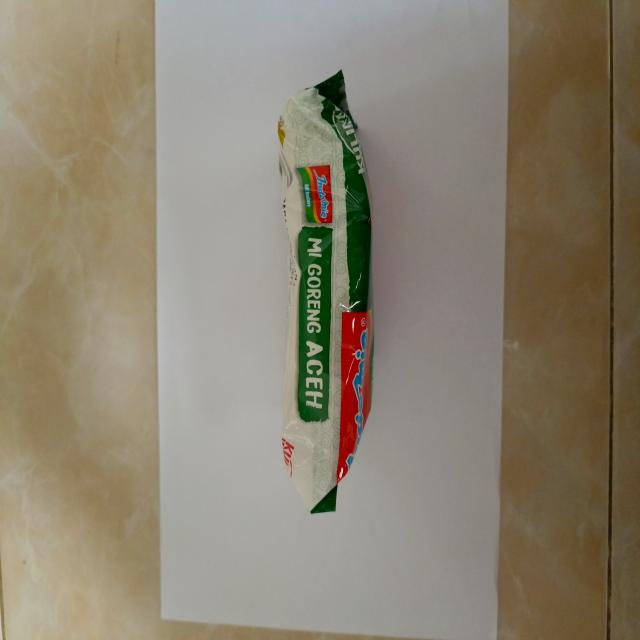gery-salut-coconut: (274, 67, 372, 514)
